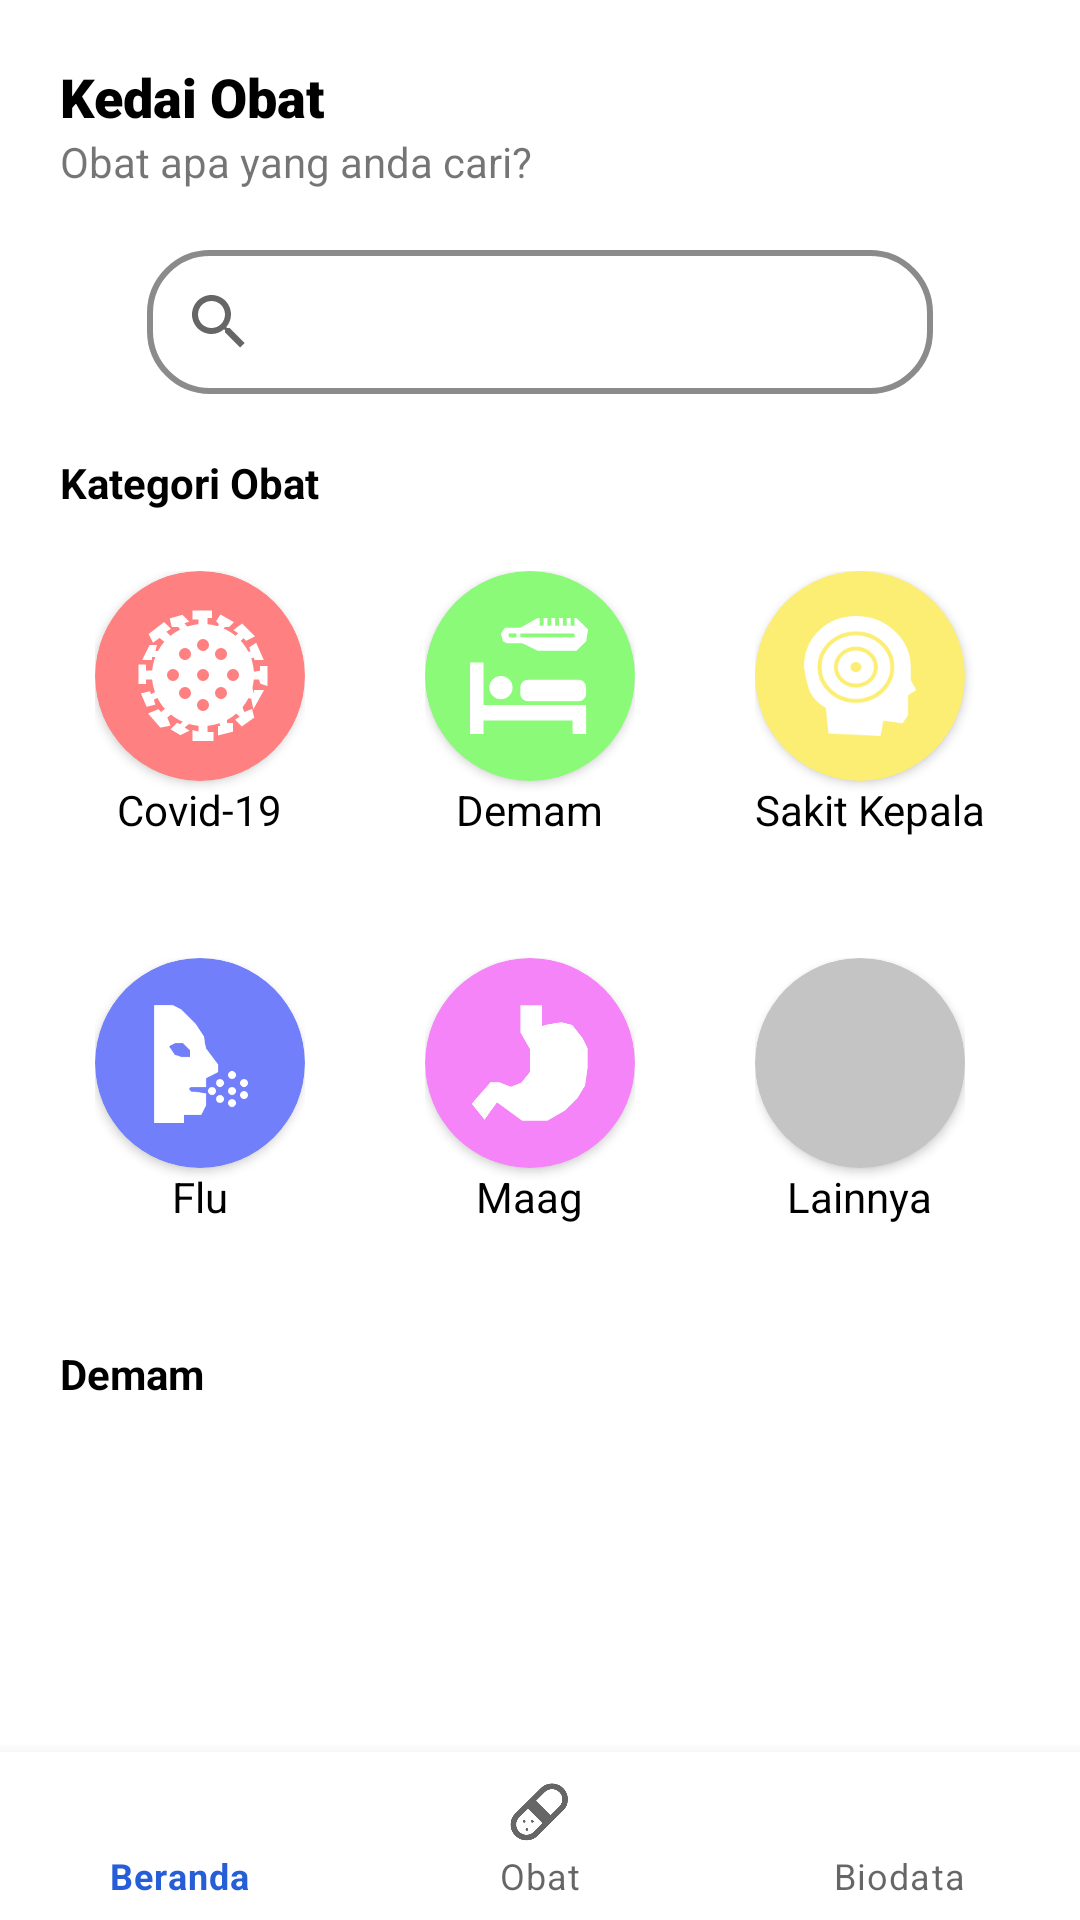

Screen size 1080w x 1920h. Icon name, then its center in pixels as (x,y):
lambung: (530,1063)
